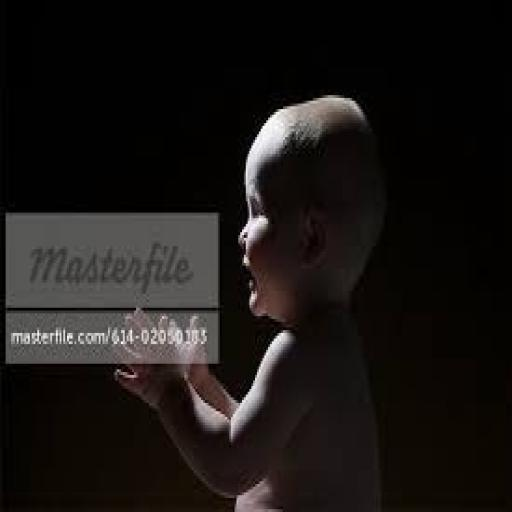clapping: (112, 90, 393, 509)
